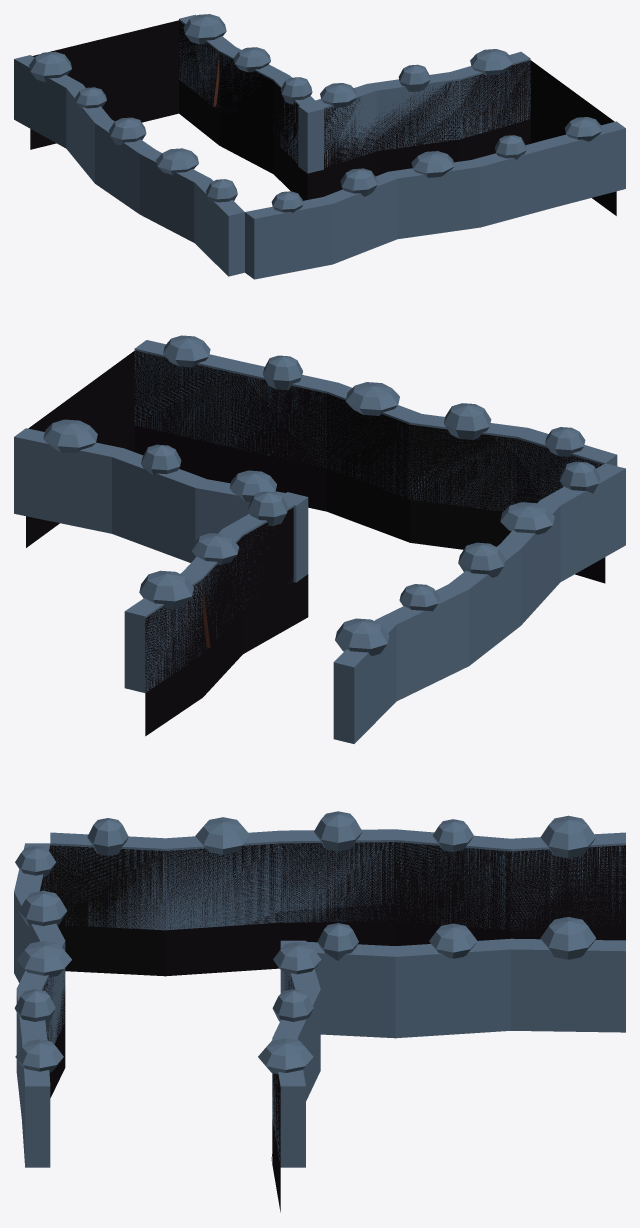
File: chasm_corner.glb
The picture shows the model from 3 angles, top to bottom: view 1: azimuth 30°, elevation 25°; view 2: azimuth 150°, elevation 25°; view 3: azimuth 270°, elevation 25°; orthographic projection. The views are drawn at different scales.
Visible parts, largest first — view 1: chasm_corner_Surface; view 2: chasm_corner_Surface; view 3: chasm_corner_Surface.
Part boxes in pixels (x1,y1,x2,y2): chasm_corner_Surface: [14, 14, 625, 279]; chasm_corner_Surface: [14, 335, 625, 743]; chasm_corner_Surface: [14, 811, 625, 1212].
Size of the model in its own units: 2.7 by 0.7175 by 2.66.
Materials: 1 (1 with a texture image).
